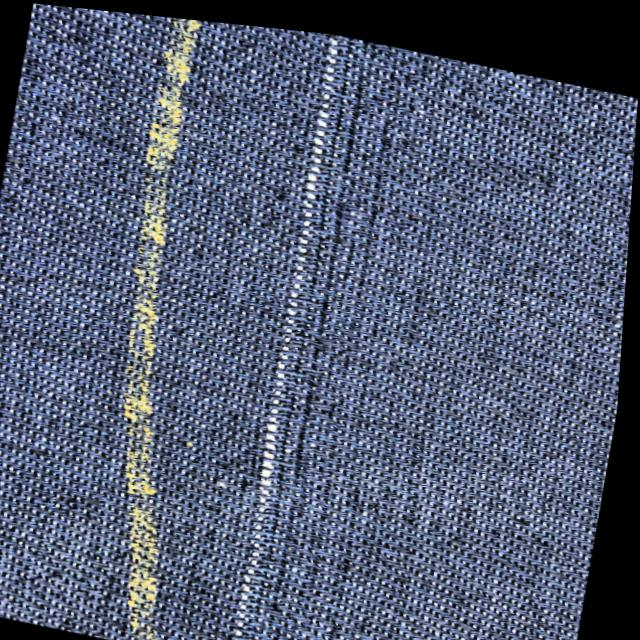Hole: (249, 390, 296, 459), (232, 556, 271, 613), (243, 465, 289, 510), (310, 58, 343, 109), (270, 292, 307, 336), (284, 233, 318, 275), (263, 339, 299, 378), (212, 613, 264, 640), (293, 175, 322, 219), (304, 119, 330, 161), (313, 26, 350, 52)
